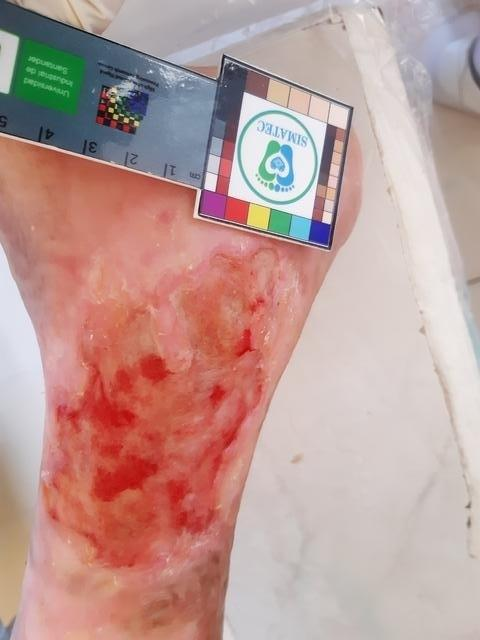wound: (43, 247, 300, 580)
